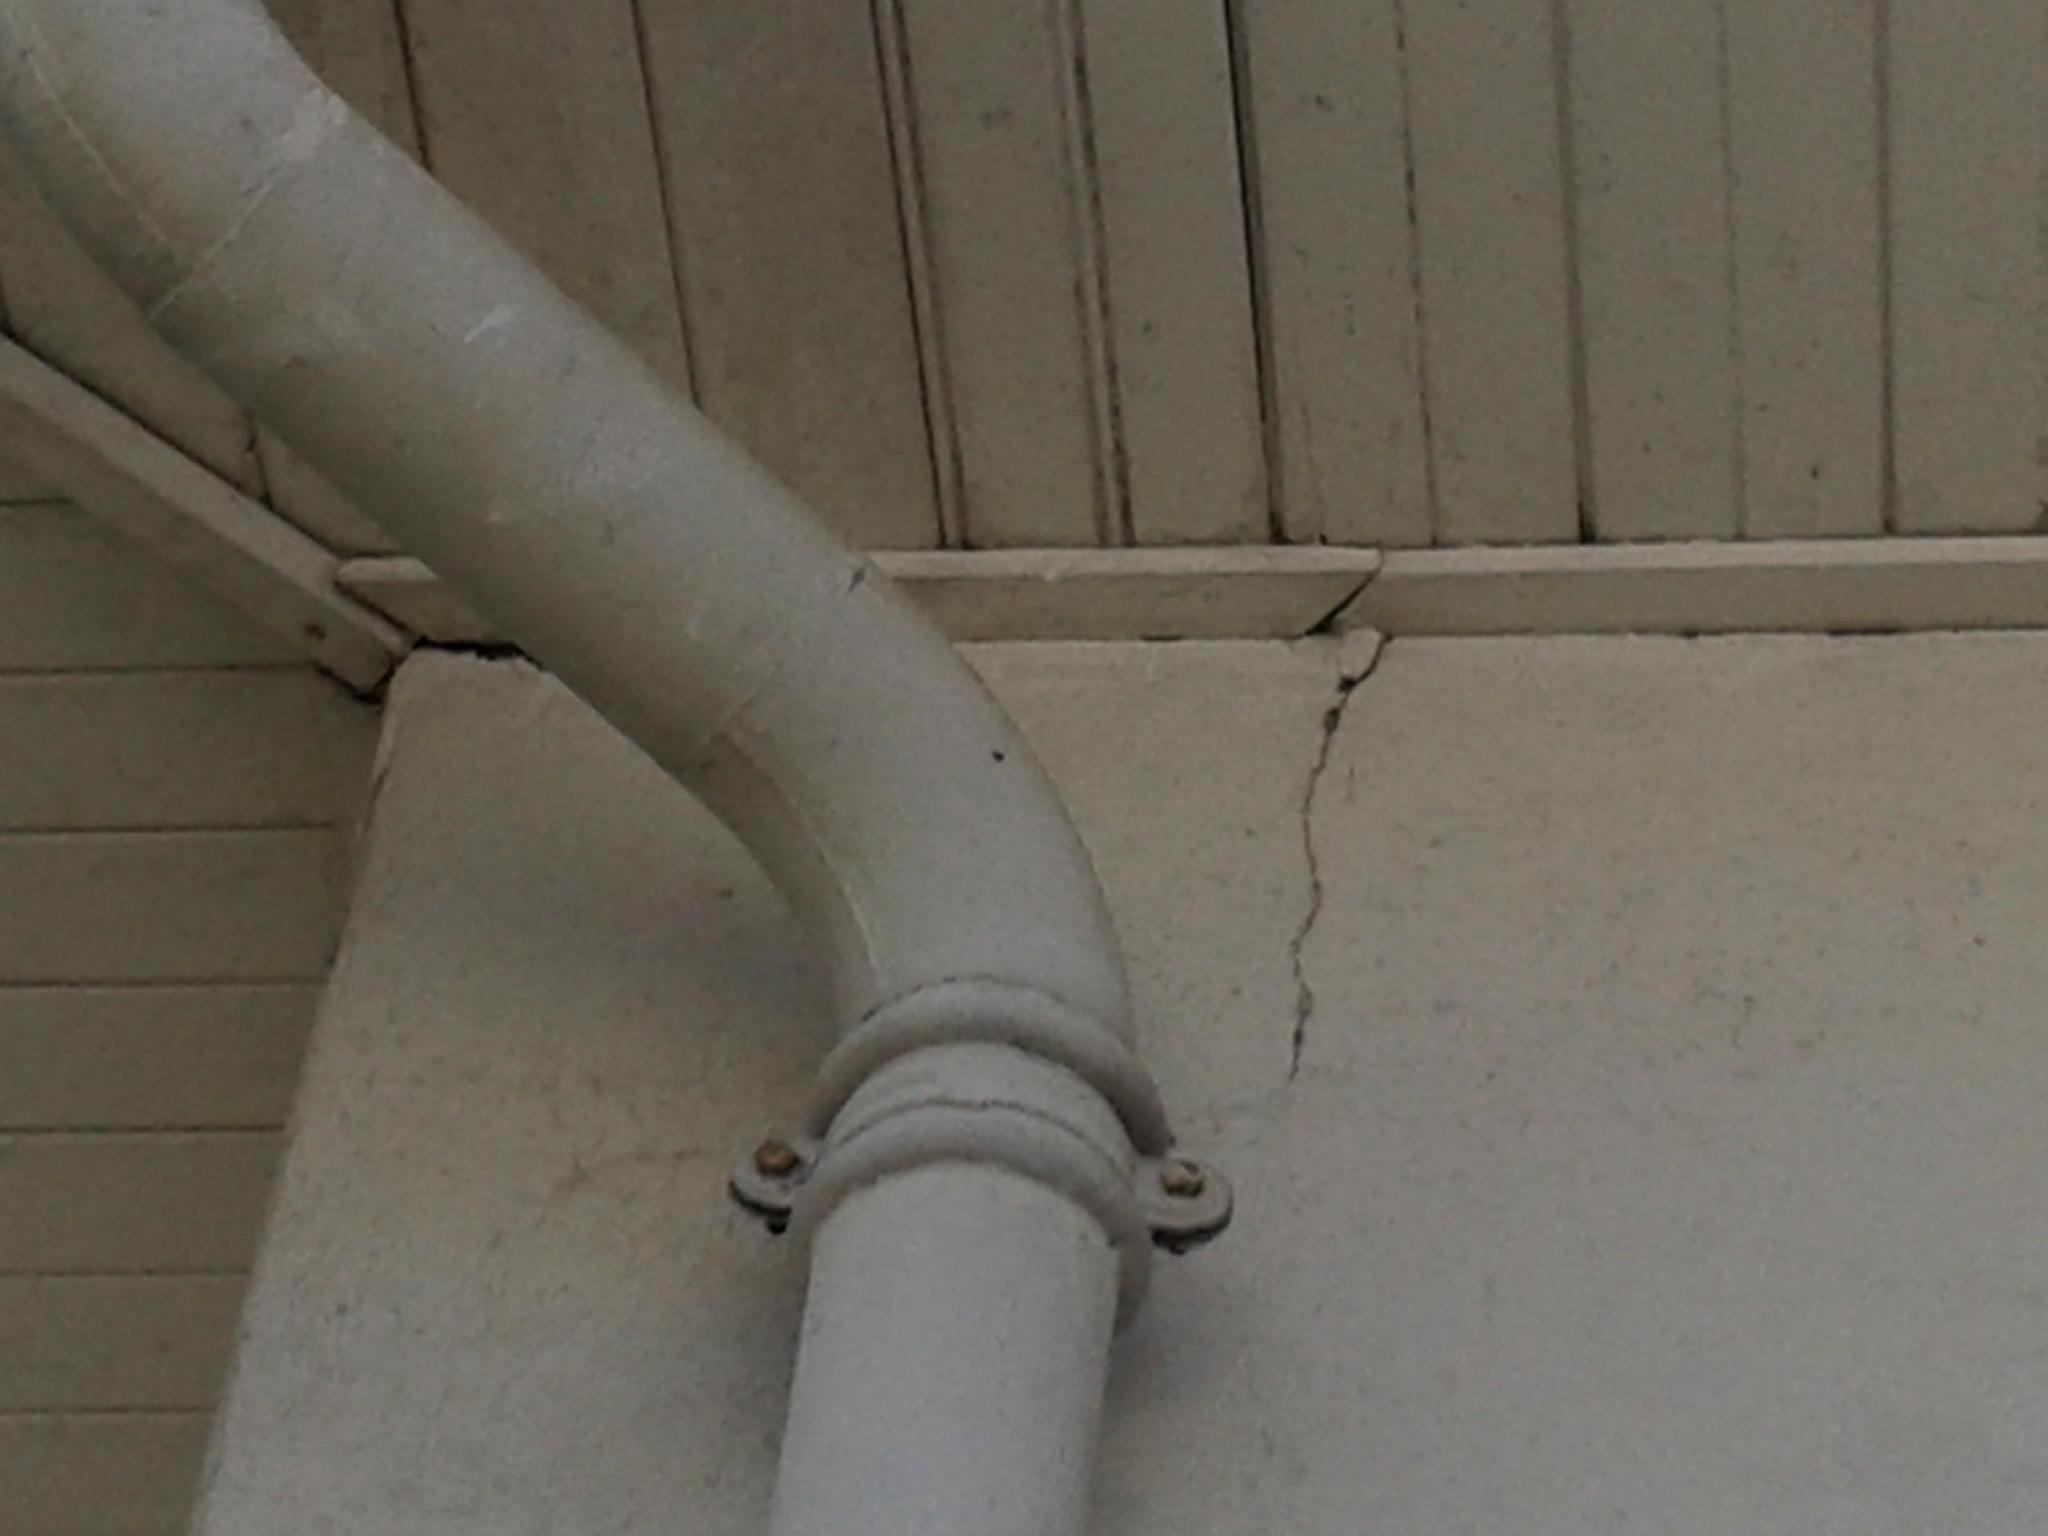crack: (1285, 547, 1393, 1089)
